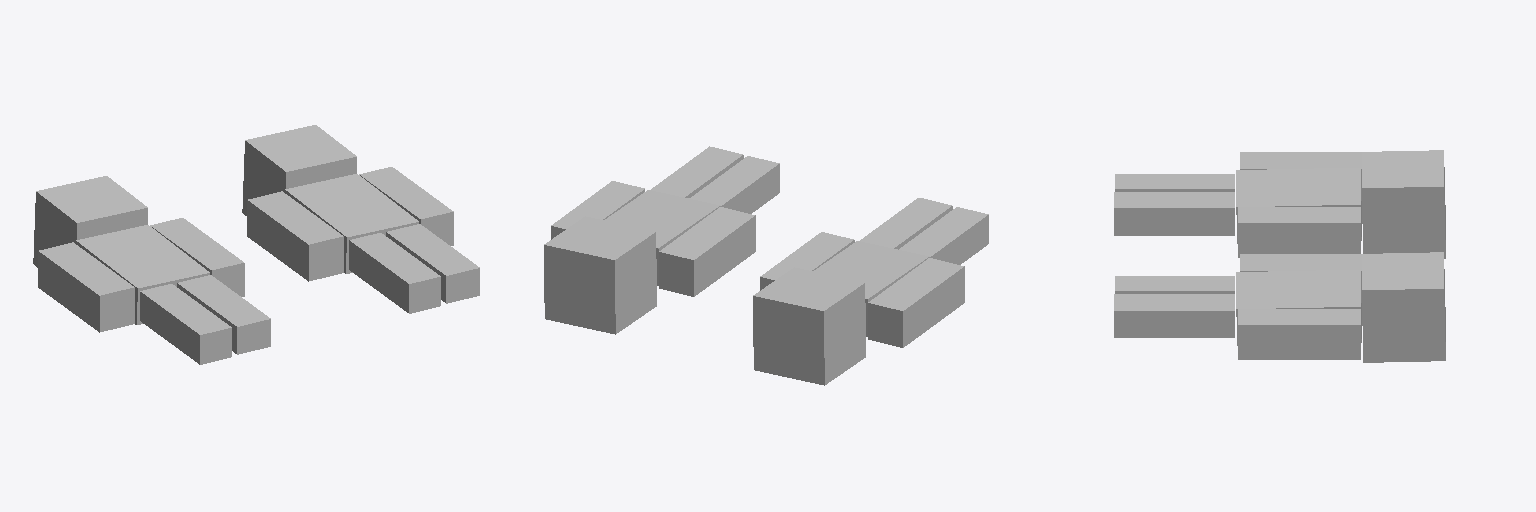
Rendered from steve.obj.
3 views of the same model, side by side, from view 1: azimuth 30°, elevation 25°; view 2: azimuth 150°, elevation 25°; view 3: azimuth 270°, elevation 25° (orthographic).
Visible parts, largest first — view 1: Cube, Cube.001; view 2: Cube.001, Cube; view 3: Cube.001, Cube.
Part boxes in pixels (x1,y1,x2,y2): Cube: (33, 176, 270, 364); Cube.001: (242, 125, 479, 313); Cube.001: (544, 146, 779, 334); Cube: (753, 198, 988, 385); Cube.001: (1114, 252, 1445, 362); Cube: (1114, 150, 1445, 258).
Bounding box in the file's own units: 6.55 × 1.36 × 5.34.